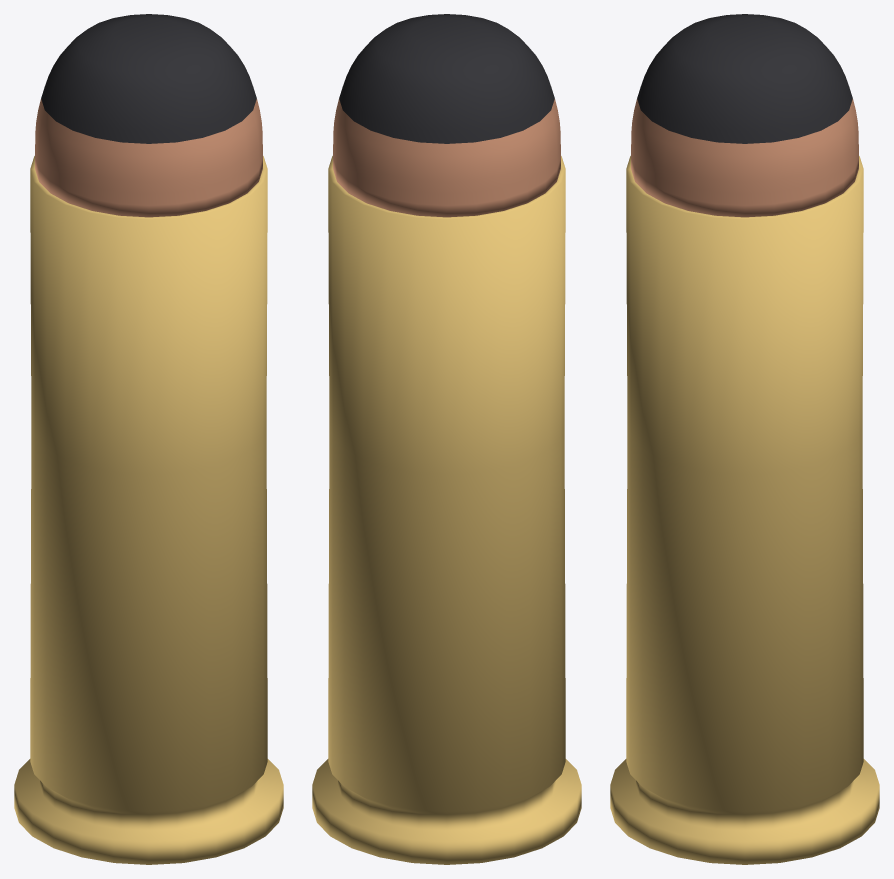
The picture shows the model from 3 angles, left to right: view 1: azimuth 30°, elevation 25°; view 2: azimuth 150°, elevation 25°; view 3: azimuth 270°, elevation 25°; orthographic projection.
Visible parts, largest first — view 1: vaina, punta, bala_cuerpo; view 2: vaina, punta, bala_cuerpo; view 3: vaina, punta, bala_cuerpo.
Part boxes in pixels (x1,y1,x2,y2): vaina: [14, 156, 283, 864]; punta: [41, 14, 256, 143]; bala_cuerpo: [35, 99, 262, 217]; vaina: [312, 156, 581, 864]; punta: [339, 14, 554, 143]; bala_cuerpo: [333, 99, 560, 217]; vaina: [610, 156, 879, 864]; punta: [637, 14, 852, 143]; bala_cuerpo: [631, 99, 858, 217].
Bounding box in the file's own units: 0.0136 × 0.0432 × 0.0136.
